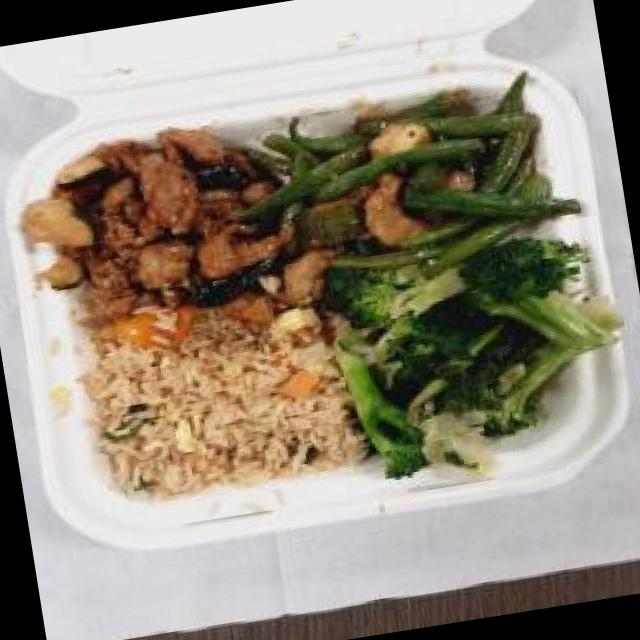Fried Rice: (79, 291, 372, 511)
Kung Pao Chicken: (18, 113, 300, 353)
String Bean Chicken Breast: (254, 69, 576, 288)
Super Greens: (318, 222, 622, 480)
